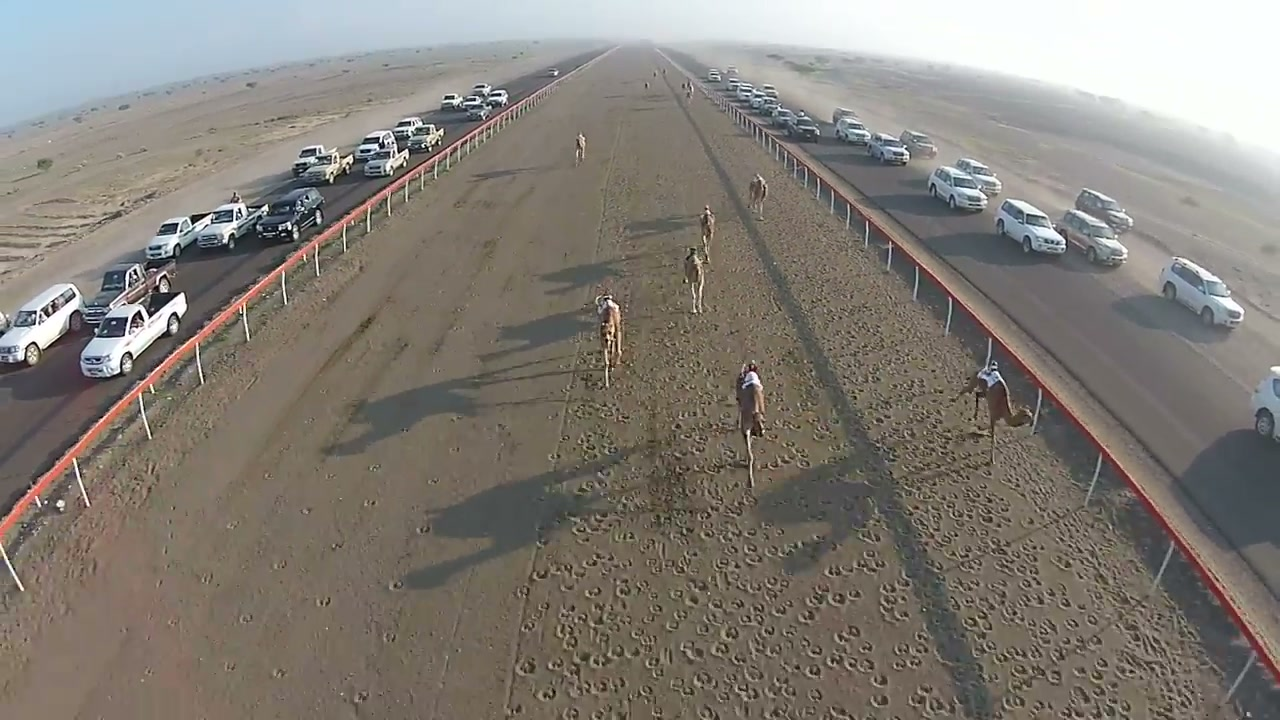animal_footprint: (520, 408, 962, 719), (893, 420, 1119, 719), (333, 453, 457, 713), (268, 493, 362, 693)
